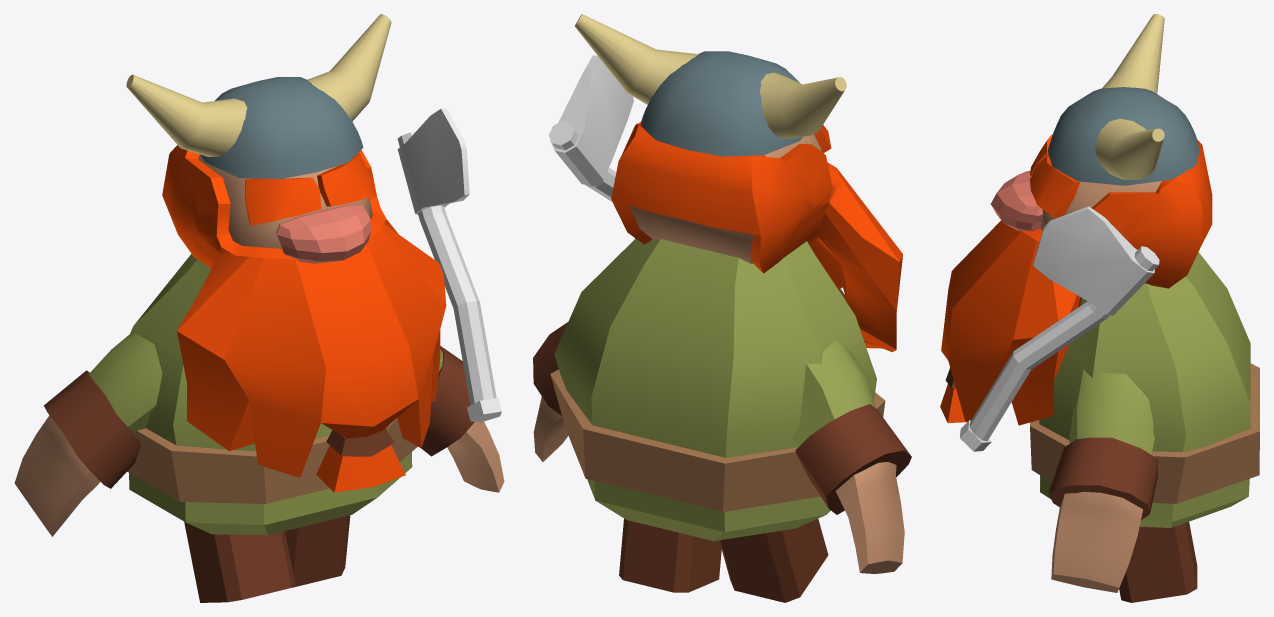
Rendered from viking_01.fbx.
3 renders of one model, left to right at view 1: azimuth 30°, elevation 25°; view 2: azimuth 150°, elevation 25°; view 3: azimuth 270°, elevation 25°, orthographic. The views are drawn at different scales.
Visible parts, largest first — view 1: viking_01, Cylinder.001; view 2: viking_01, Cylinder.001; view 3: viking_01, Cylinder.001.
Boxes of the visible parts, bbox=[...] form: viking_01: bbox=[14, 14, 504, 602]; Cylinder.001: bbox=[397, 108, 501, 422]; viking_01: bbox=[533, 14, 911, 602]; Cylinder.001: bbox=[548, 55, 633, 201]; viking_01: bbox=[940, 14, 1259, 602]; Cylinder.001: bbox=[960, 206, 1159, 451].
Size of the model in its own units: 207 by 268 by 155.
